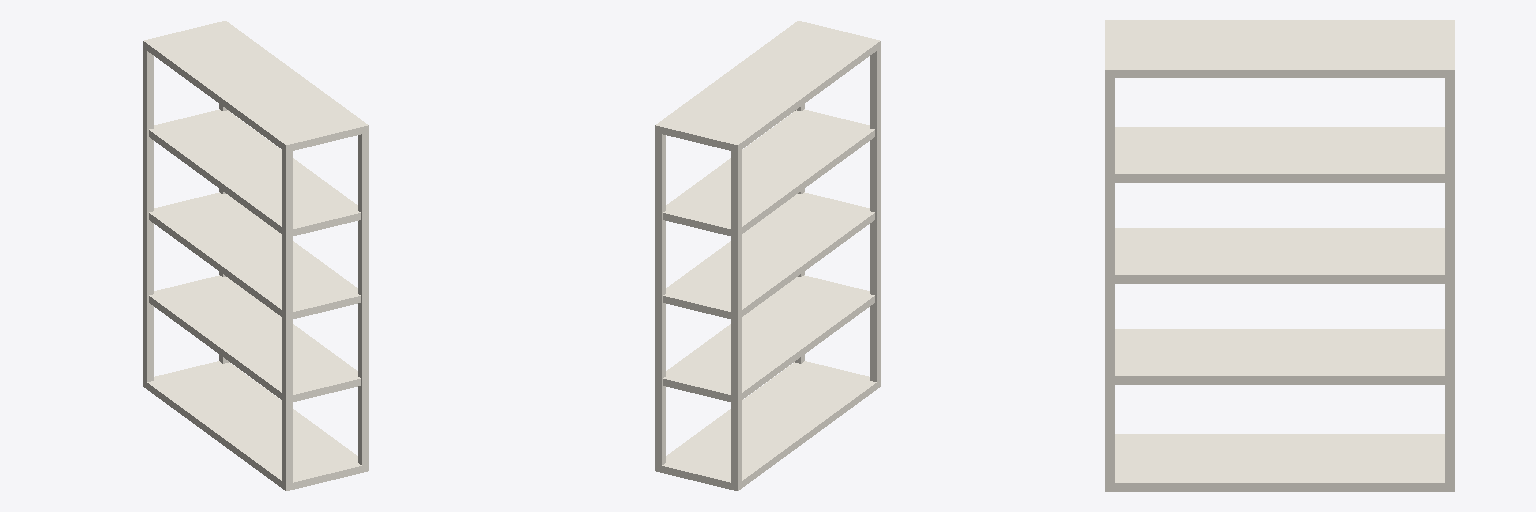
The robot description file, URDF, robot "room602-uchida-shelf":
<?xml version="1.0"?>
<robot name="room602-uchida-shelf"
       xmlns:xi="http://www.w3.org/2001/XInclude"
       xmlns:gazebo="http://playerstage.sourceforge.net/gazebo/xmlschema/#gz"
       xmlns:model="http://playerstage.sourceforge.net/gazebo/xmlschema/#model"
       xmlns:sensor="http://playerstage.sourceforge.net/gazebo/xmlschema/#sensor"
       xmlns:body="http://playerstage.sourceforge.net/gazebo/xmlschema/#body"
       xmlns:geom="http://playerstage.sourceforge.net/gazebo/xmlschema/#geom"
       xmlns:joint="http://playerstage.sourceforge.net/gazebo/xmlschema/#joint"
       xmlns:interface="http://playerstage.sourceforge.net/gazebo/xmlschema/#interface"
       xmlns:rendering="http://playerstage.sourceforge.net/gazebo/xmlschema/#rendering"
       xmlns:renderable="http://playerstage.sourceforge.net/gazebo/xmlschema/#renderable"
       xmlns:controller="http://playerstage.sourceforge.net/gazebo/xmlschema/#controller"
       xmlns:physics="http://playerstage.sourceforge.net/gazebo/xmlschema/#physics">
  <gazebo>
    <static>false</static>
  </gazebo>
  <link name="nil_link">
    <visual>
      <origin xyz="0 0 0" rpy="0 -0 0"/>
      <geometry>
        <mesh filename="model://room602-uchida-shelf/meshes/nil_link_mesh.dae" scale="1 1 1" />
      </geometry>
    </visual>
    <collision>
      <origin xyz="0 0 0" rpy="0 -0 0"/>
      <geometry>
        <mesh filename="model://room602-uchida-shelf/meshes/nil_link_mesh.dae" scale="1 1 1" />
      </geometry>
    </collision>
    <inertial>
      <mass value="0.001" />
      <origin xyz="0 0 0" rpy="0 -0 0"/>
      <inertia ixx="1e-09" ixy="0" ixz="0" iyy="1e-09" iyz="0" izz="1e-09"/>
    </inertial>
  </link>
  <gazebo reference="nil_link">
    <mu1>0.9</mu1>
    <mu2>0.9</mu2>
  </gazebo>
</robot>

--- What the picture shows (computed from the rendered views, not written in the file) ---
3 views of the same robot in one strip: view 1: azimuth 30°, elevation 25°; view 2: azimuth 150°, elevation 25°; view 3: azimuth 270°, elevation 25° (orthographic).
Model room602-uchida-shelf with 1 links and 0 joints (none), rooted at nil_link, posed all joints at 0.
Visible links, largest first — view 1: nil_link; view 2: nil_link; view 3: nil_link.
Boxes of the visible links, x1,y1,x2,y2 form: nil_link: (143,21,368,490); nil_link: (655,21,880,490); nil_link: (1105,20,1454,491).
Size in the robot's own frame: 0.6 by 1.8 by 2.4 metres.
Meshes: 1 distinct files referenced, 1 mesh visuals loaded (1 Collada DAE).
